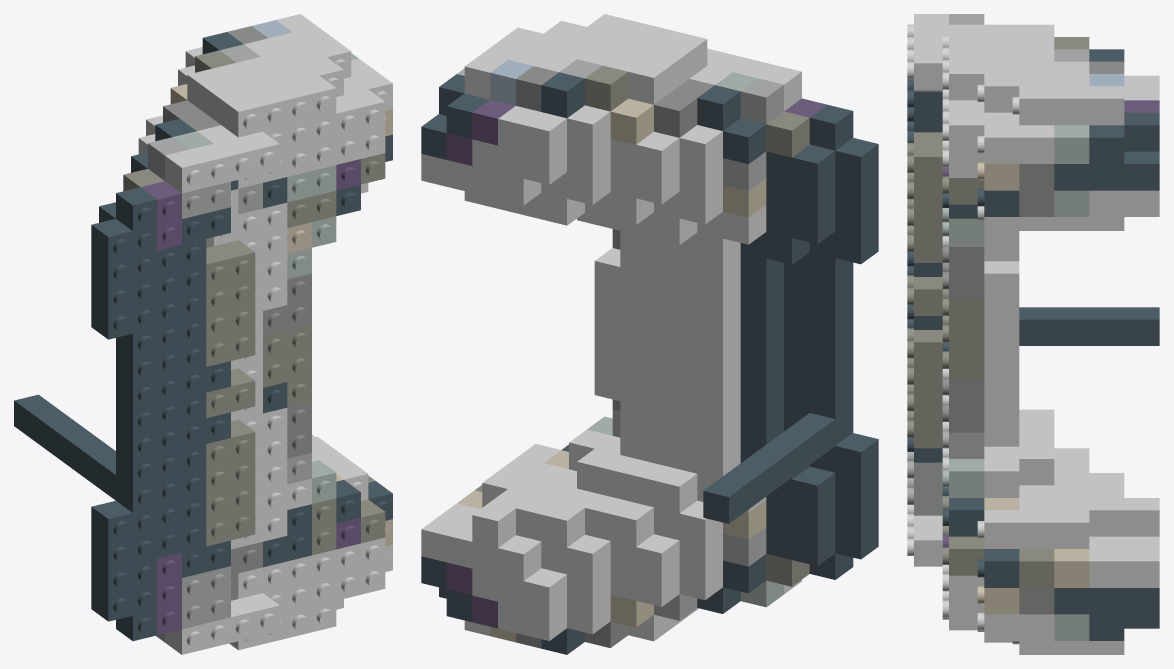
File: full.glb
3 views of the same model, side by side, from view 1: azimuth 30°, elevation 25°; view 2: azimuth 150°, elevation 25°; view 3: azimuth 270°, elevation 25° (orthographic). The views are drawn at different scales.
Parts seen in each view (by area): view 1: world; view 2: world; view 3: world.
Part boxes in pixels (x1,y1,x2,y2): world: (14, 14, 392, 654); world: (421, 14, 878, 654); world: (907, 14, 1159, 654).
Bounding box in the file's own units: 104 × 168 × 69.
